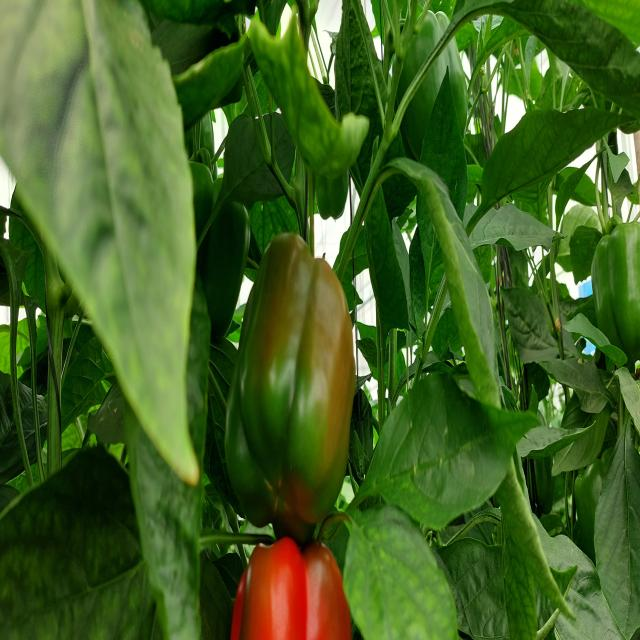BrownishRed--Can-be-Harvested: (228, 229, 360, 514)
Red-Ready-to-Harvest: (236, 540, 350, 640)
